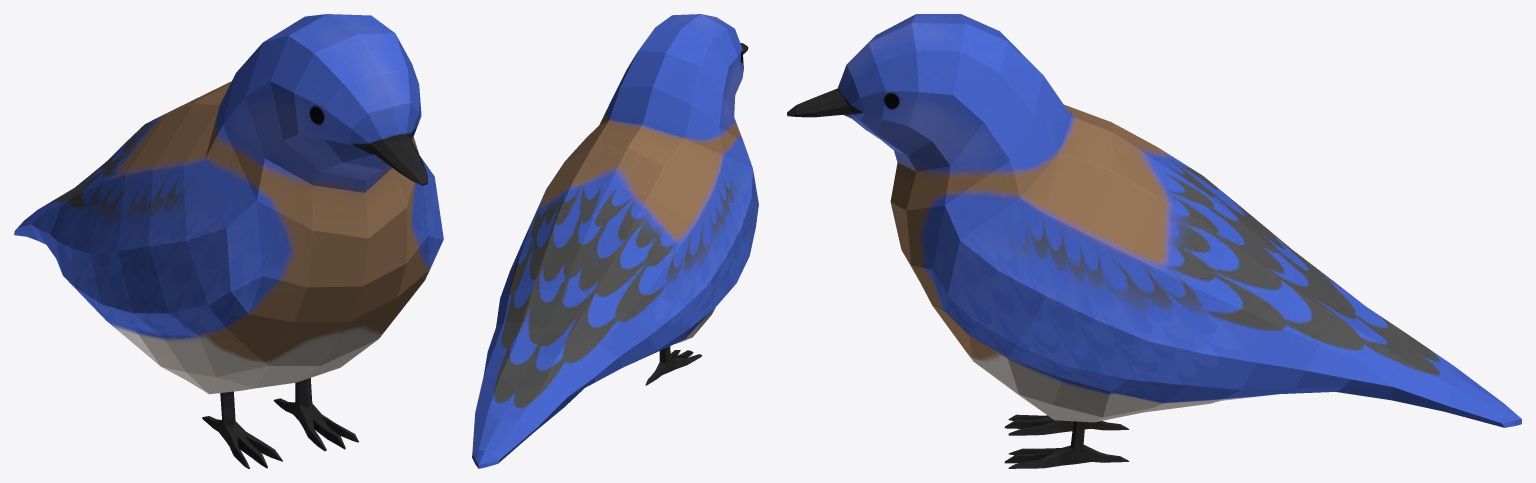
Rendered from cdcl5UwlYWd.glb.
3 renders of one model, left to right at view 1: azimuth 30°, elevation 25°; view 2: azimuth 150°, elevation 25°; view 3: azimuth 270°, elevation 25°, orthographic. The views are drawn at different scales.
Visible parts, largest first — view 1: WesternBluebird_Mesh; view 2: WesternBluebird_Mesh; view 3: WesternBluebird_Mesh.
Part boxes in pixels (box(x1,y1,x2,y2)): WesternBluebird_Mesh: box(14, 14, 443, 468); WesternBluebird_Mesh: box(472, 14, 758, 468); WesternBluebird_Mesh: box(787, 14, 1521, 468).
Bounding box in the file's own units: 0.6302 × 0.9999 × 1.58.
Materials: 1 (1 with a texture image).
